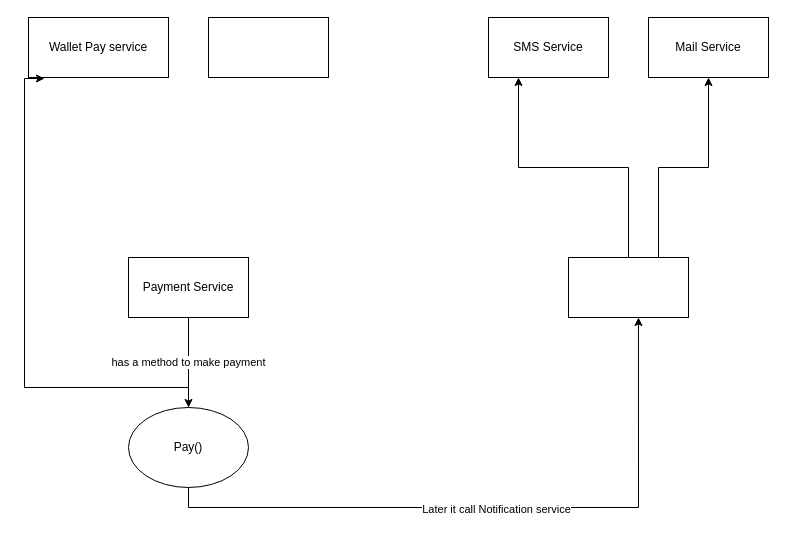
Some shapes in this 786 by 533 pixel diagram are drawn without their labels. Here are the shapes that lost their labels. From the top down, the box of each, then its label:
(208, 16, 328, 78): Credit card service
(568, 256, 688, 318): Notification Service
